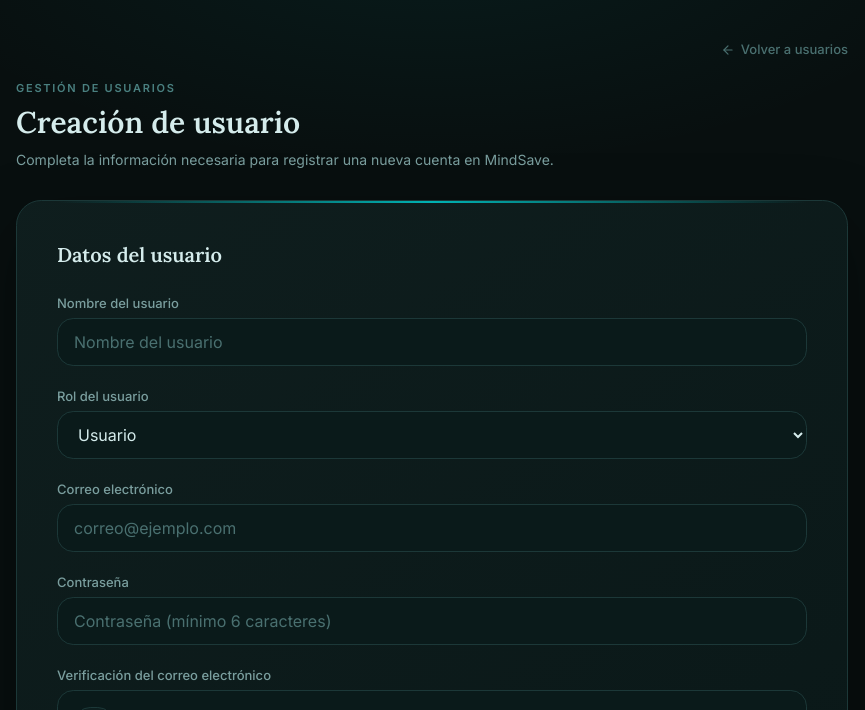
Test case: Formularios de usuario › Creación › CP-ADW-41 Validar 'Contraseña' con el valor '12345'
The image size is (865, 710).
Type "  Nuevo Paciente  " into the field labelled "Nombre del usuario".
click(432, 342); type("  Nuevo Paciente  ")  # box [57,318,807,366]
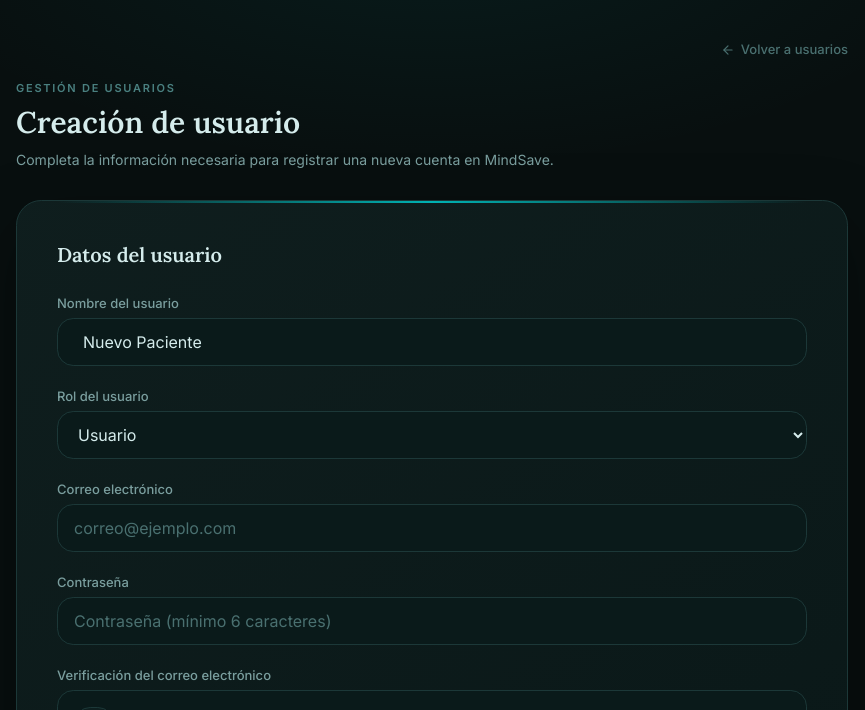
Type "nuevo@mindsave.test" into the field labelled "Correo electrónico".
click(432, 528); type("nuevo@mindsave.test")  # box [57,504,807,552]
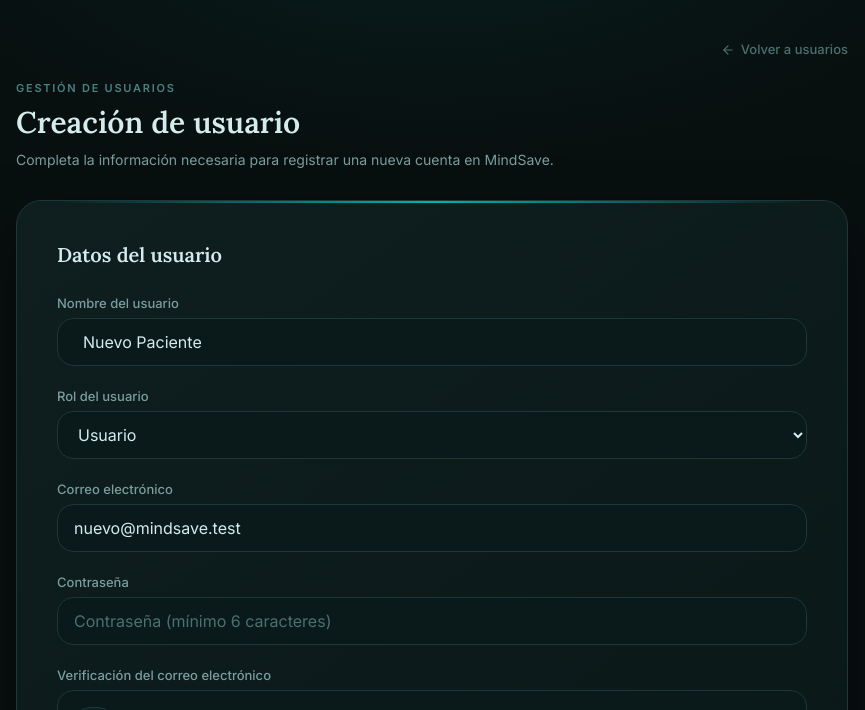
Type "Prueba123" into the password field labelled "Contraseña".
click(432, 621); type("Prueba123")  # box [57,597,807,645]
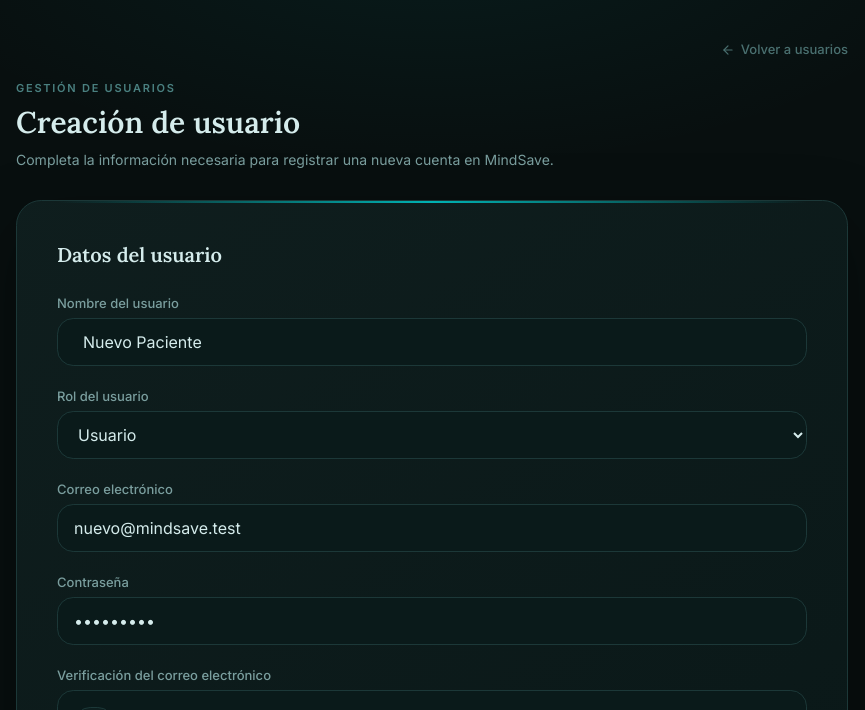
Type "12345" into the password field labelled "Contraseña".
click(432, 621); type("12345")  # box [57,597,807,645]
(page scrolled)
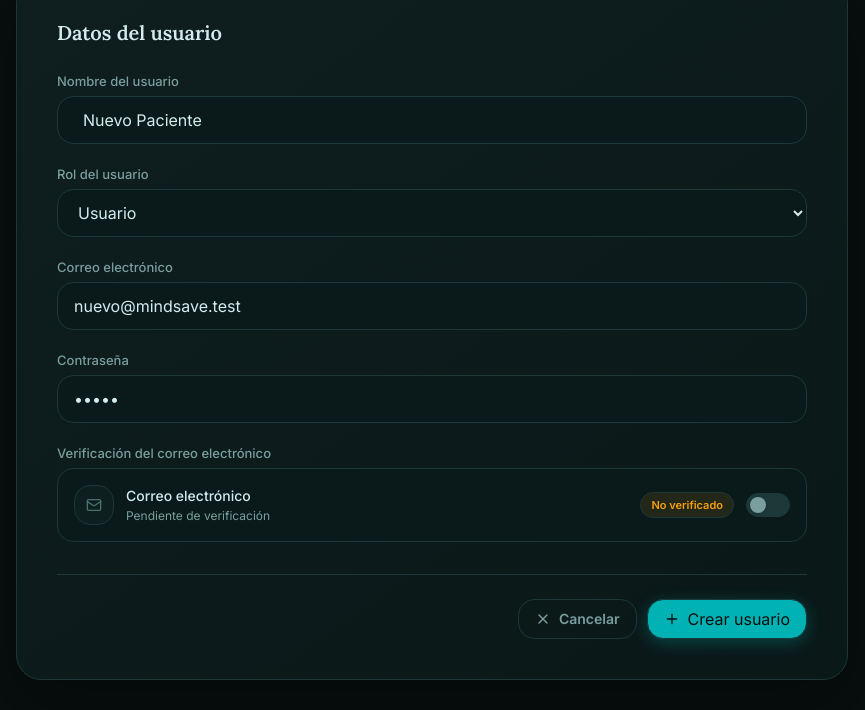
Click the button "Crear usuario".
click(727, 619)  # box [647,599,807,639]
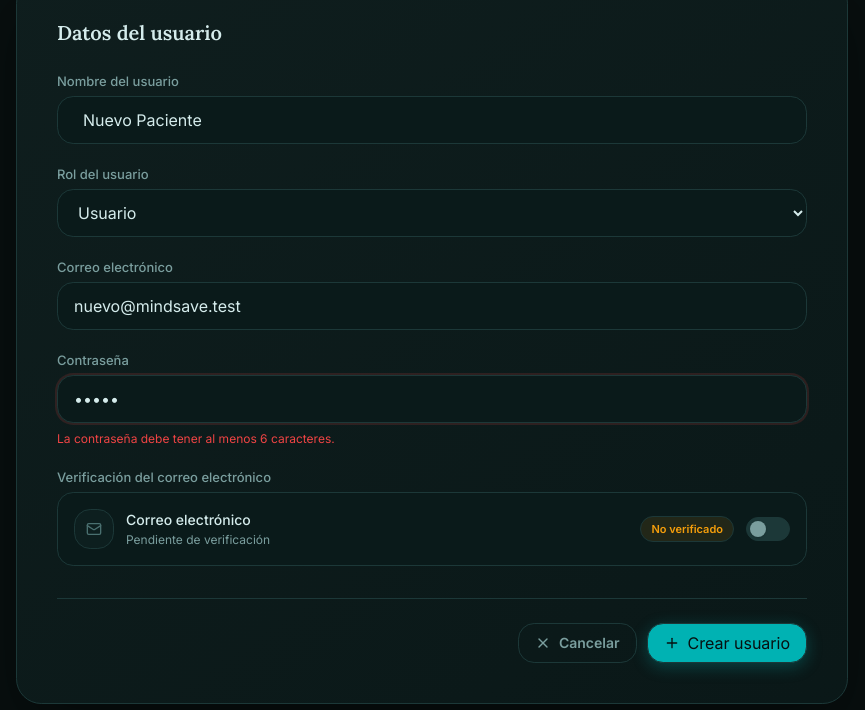
Now the text "La contraseña debe tener al menos 6 caracteres." is shown, box [57,431,335,446]
